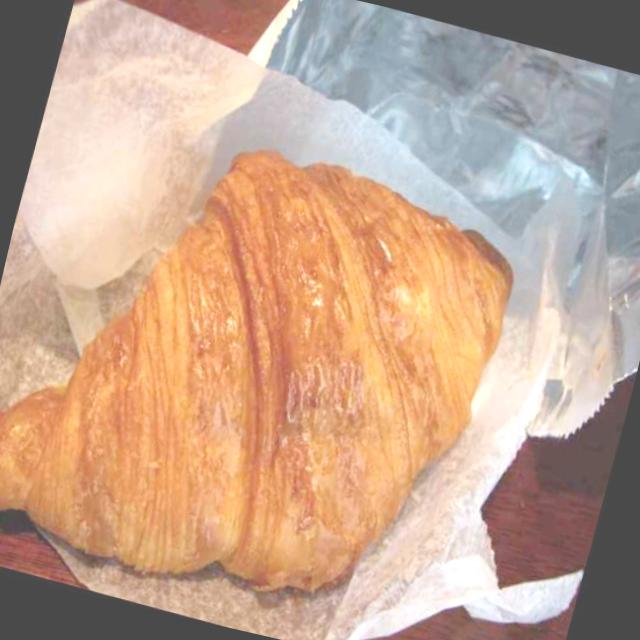Croissant: (0, 73, 551, 640)
